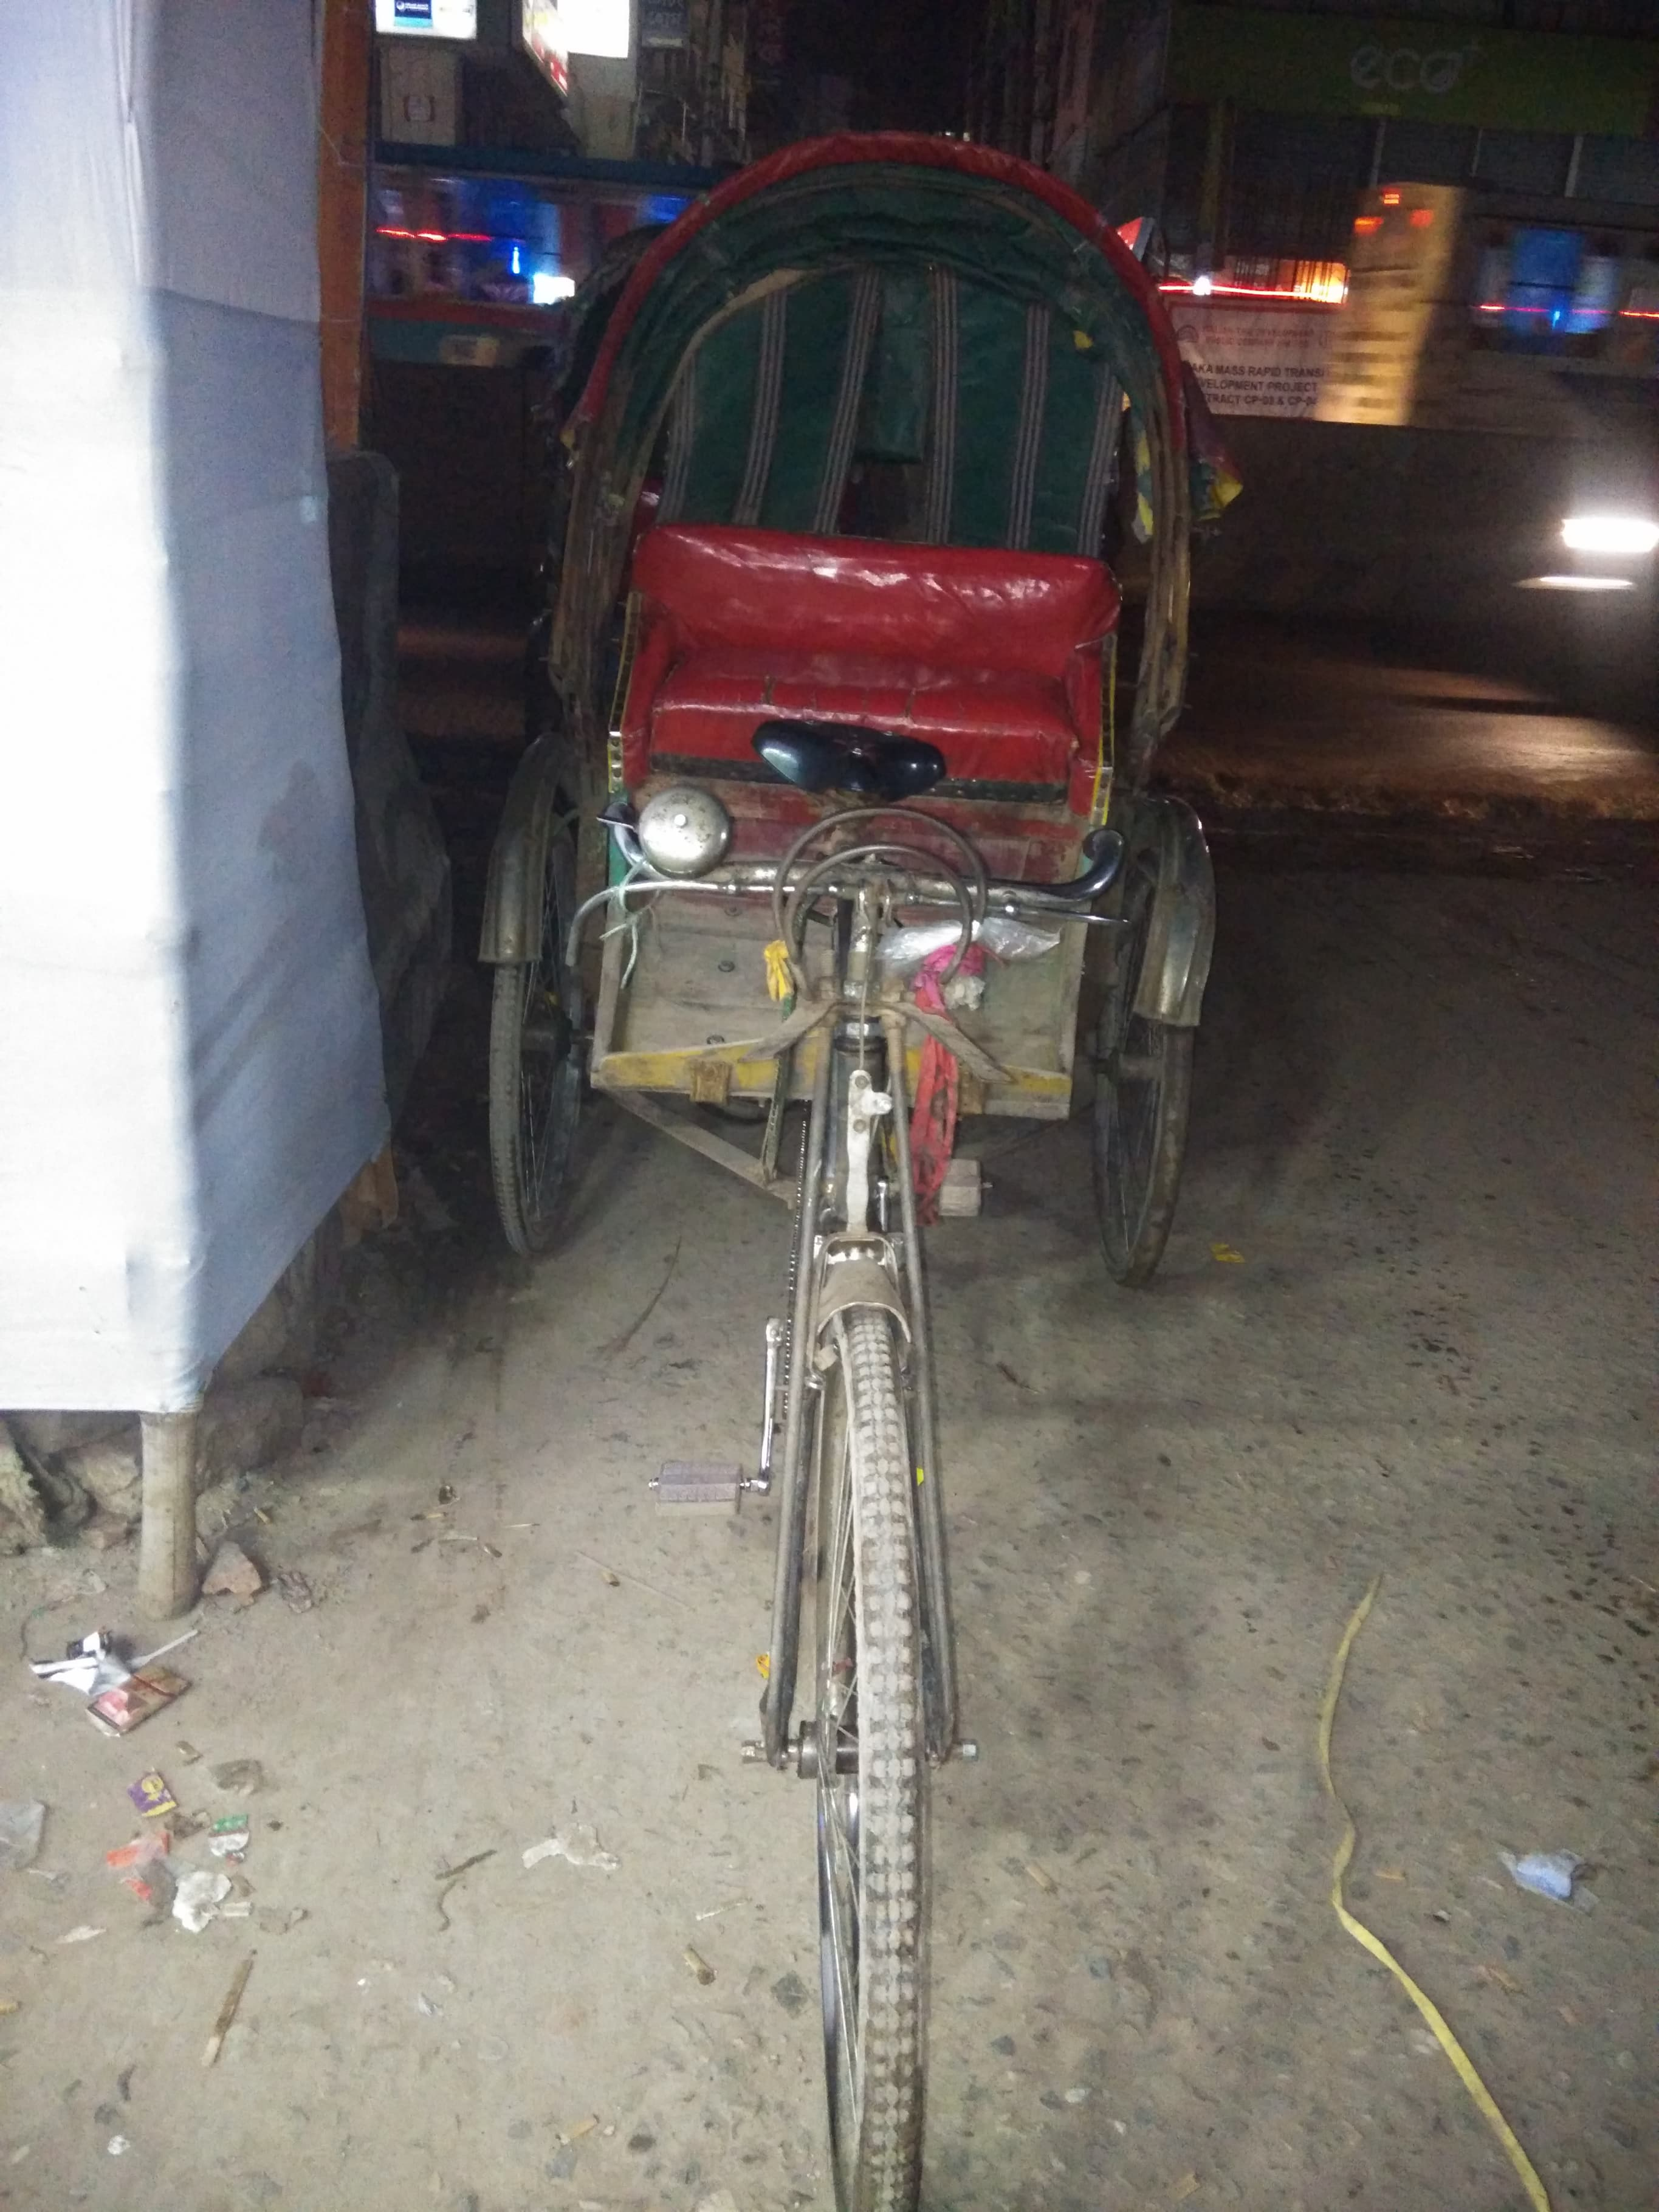Rickshaw: (415, 113, 1263, 1869)
